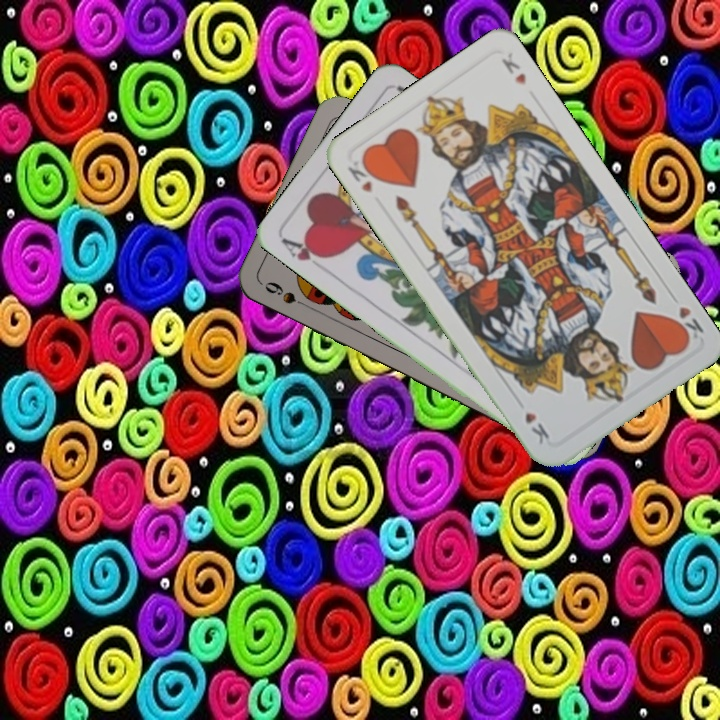HA: (278, 234, 333, 275)
HK: (665, 289, 706, 345), (343, 152, 380, 196)
S9: (261, 277, 315, 312)
